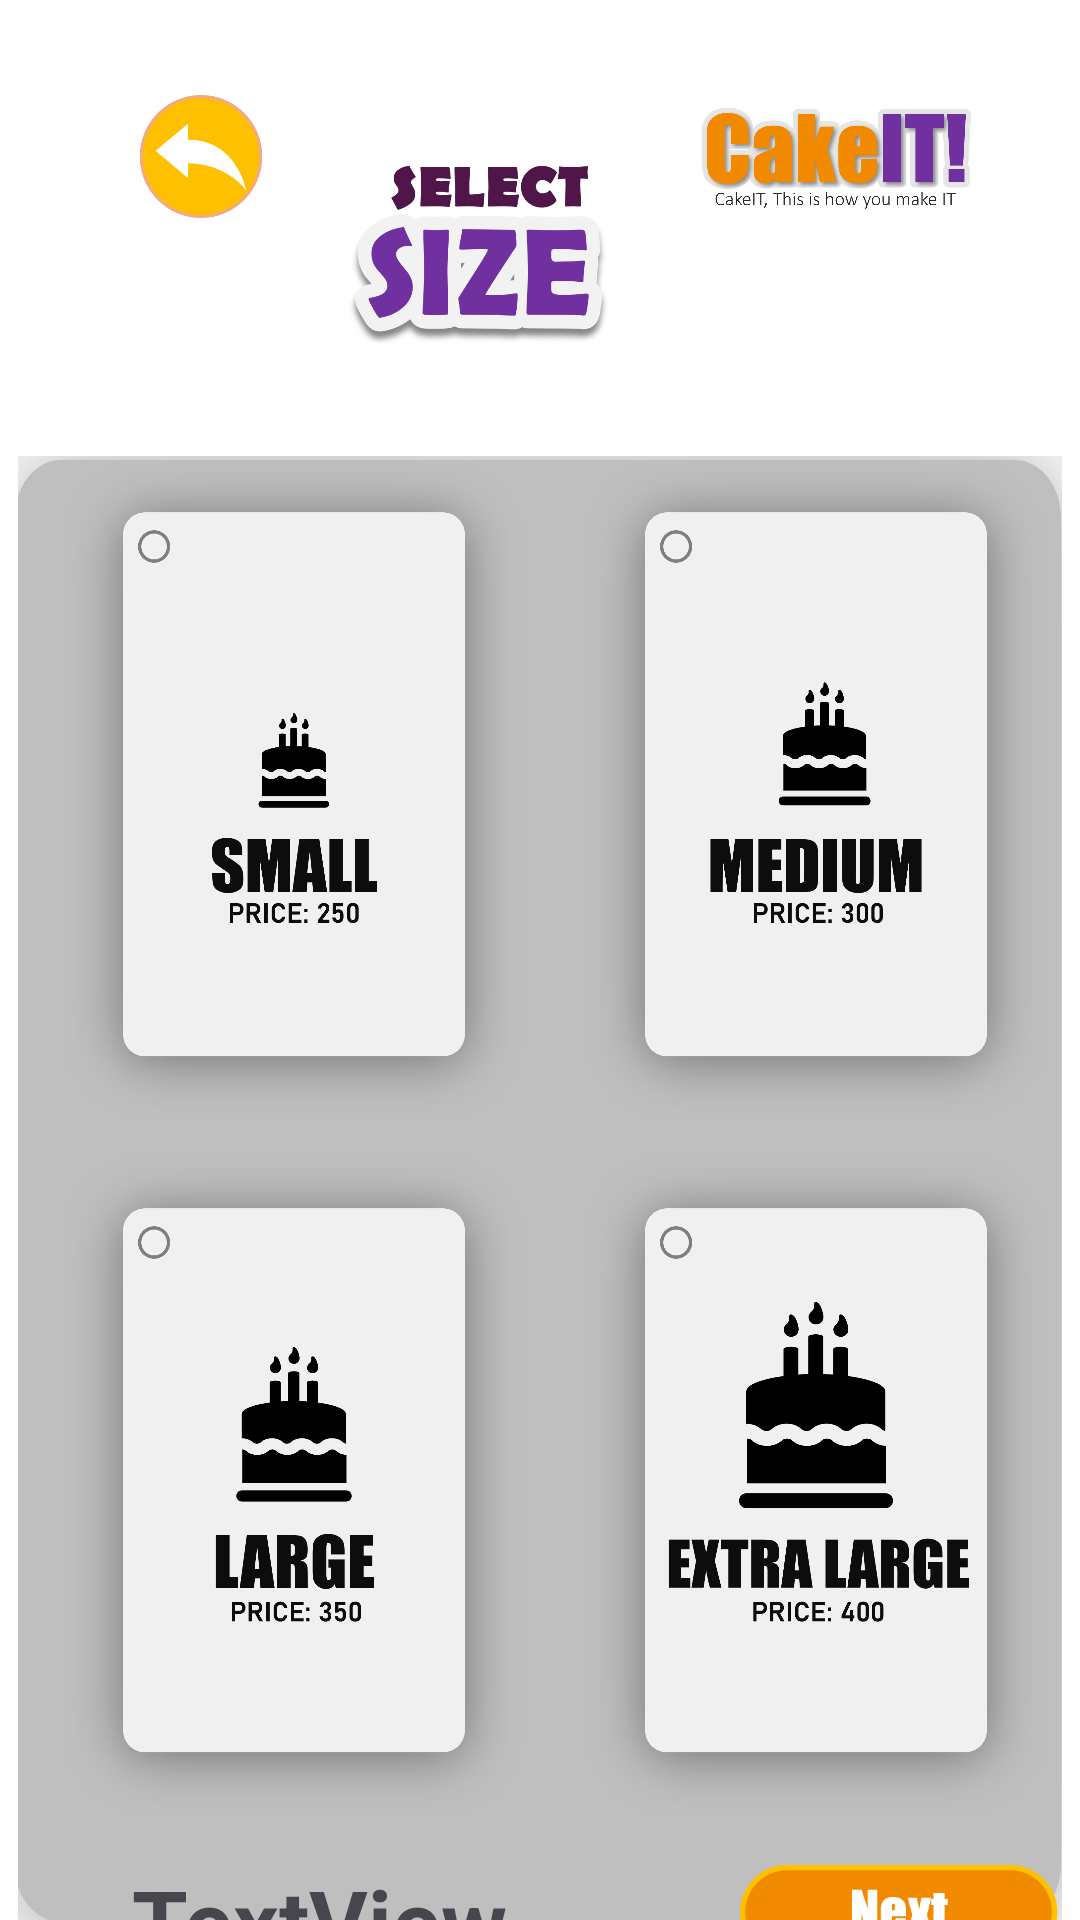

Point at icon controls on the screen. Image size 1080 x 1920, points as point (x, y).
backicon: point (201, 156)
